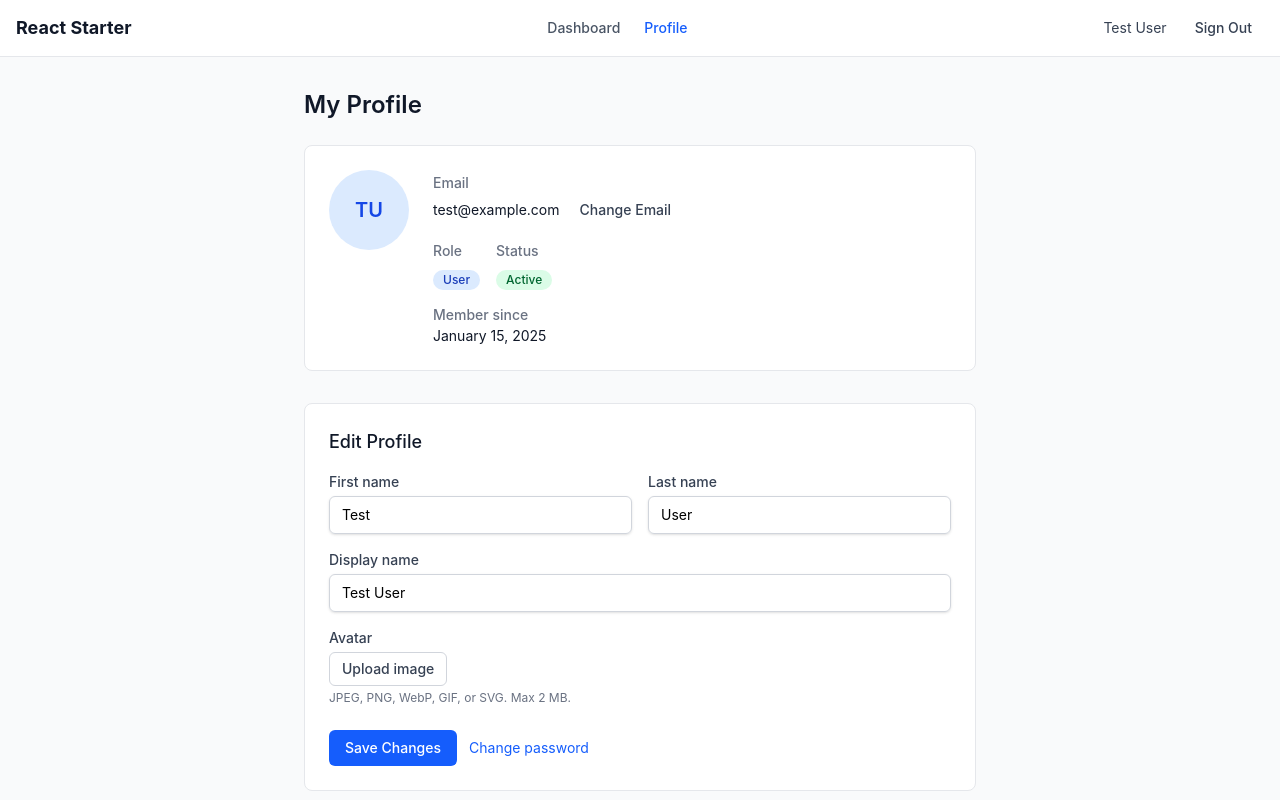
it: ProfilePage › shows validation errors for empty required fields
Clear the field labelled "First name" at {"x": 480, "y": 515}, box [329,496,632,534]
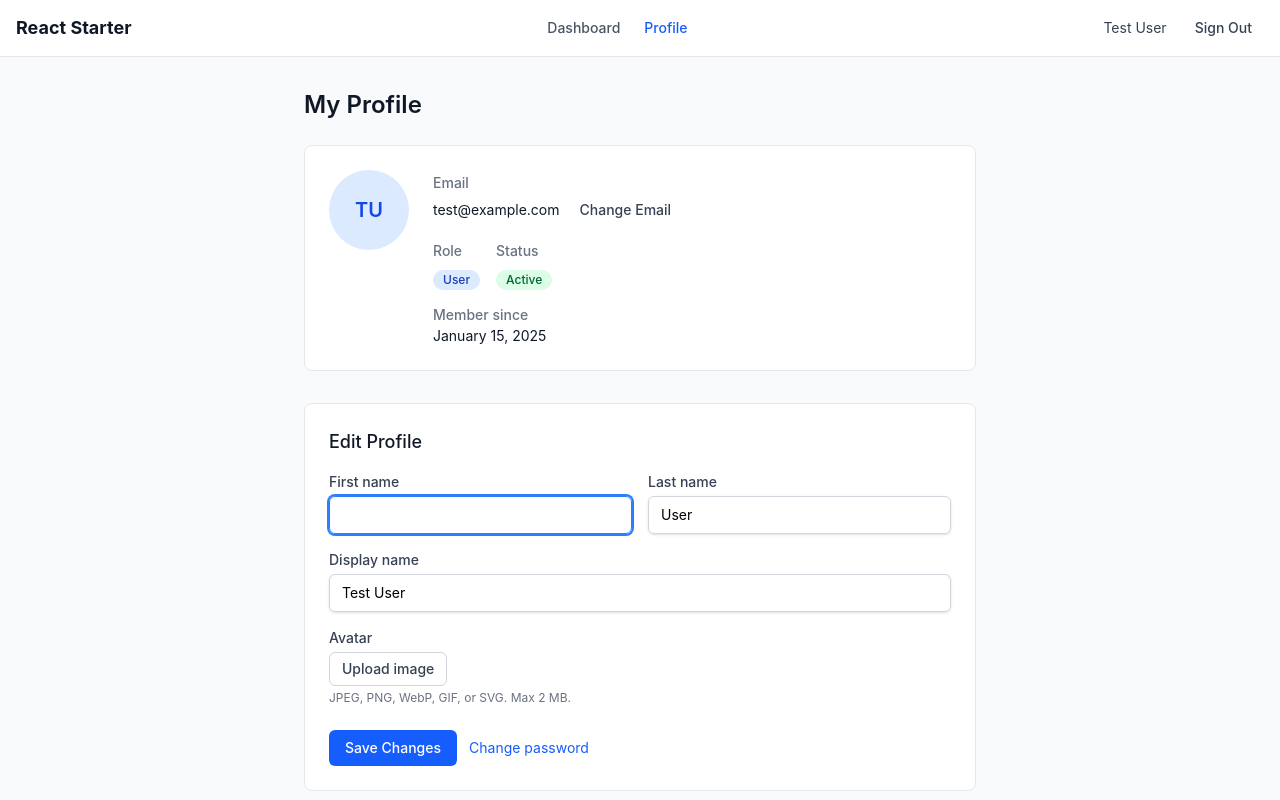
Clear the field labelled "Last name" at {"x": 800, "y": 515}, box [648,496,951,534]
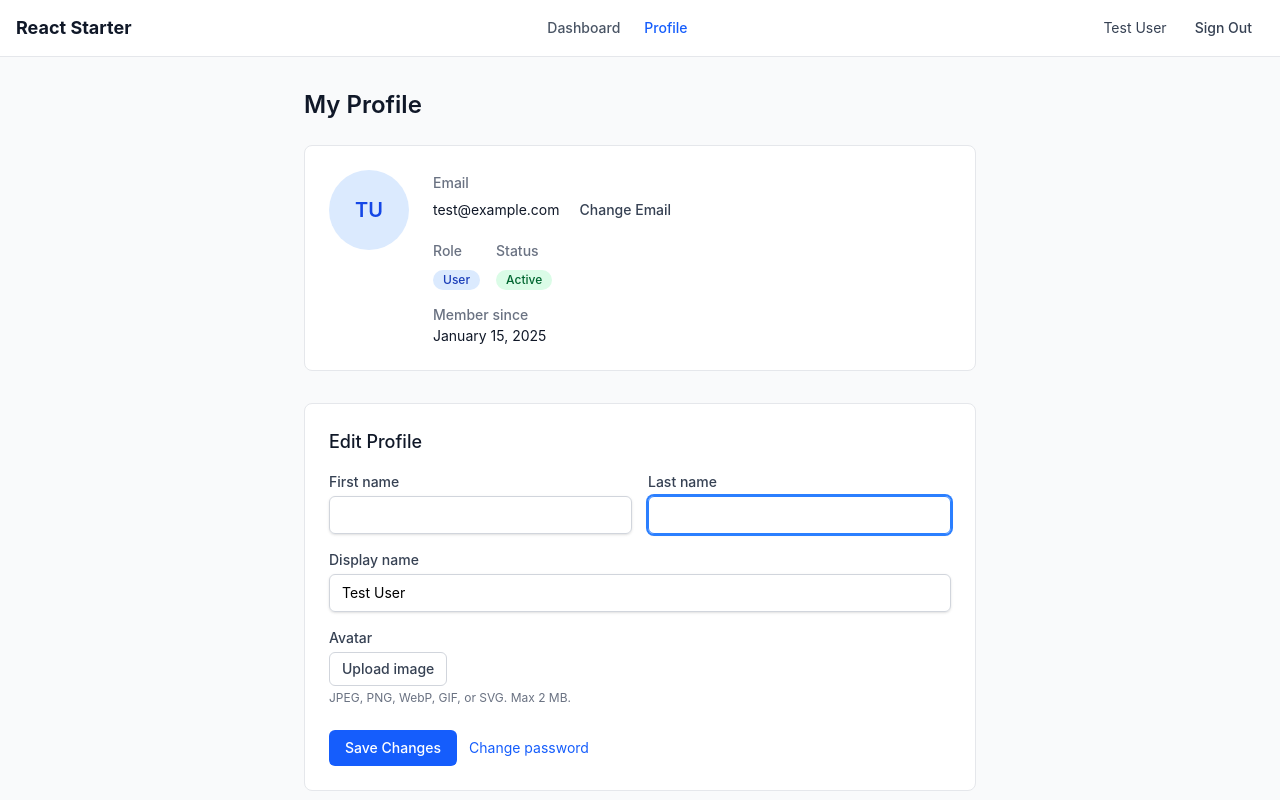
Click the button "Save Changes" at {"x": 393, "y": 748}, box [329,730,457,766]
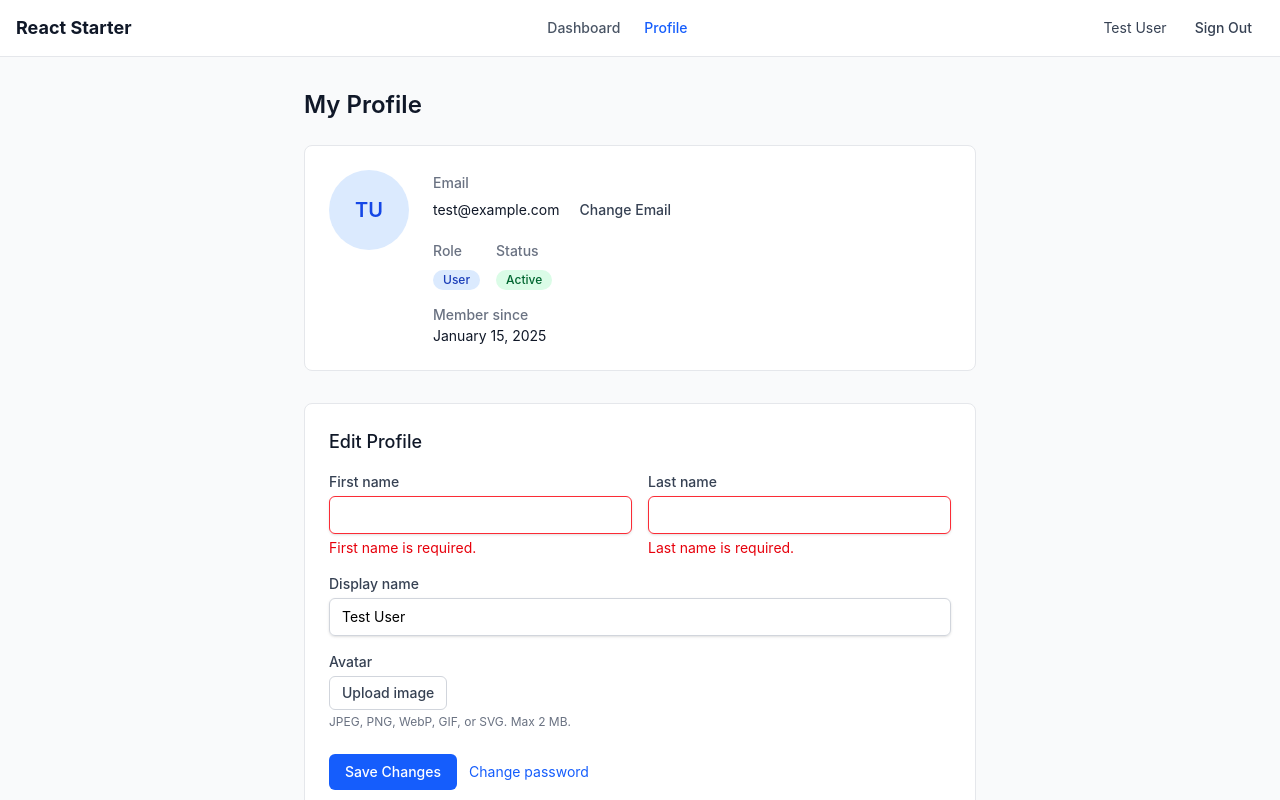
expect the text "First name is required." is shown: met, box [329,539,476,556]
expect the text "Last name is required." is shown: met, box [648,539,794,556]
